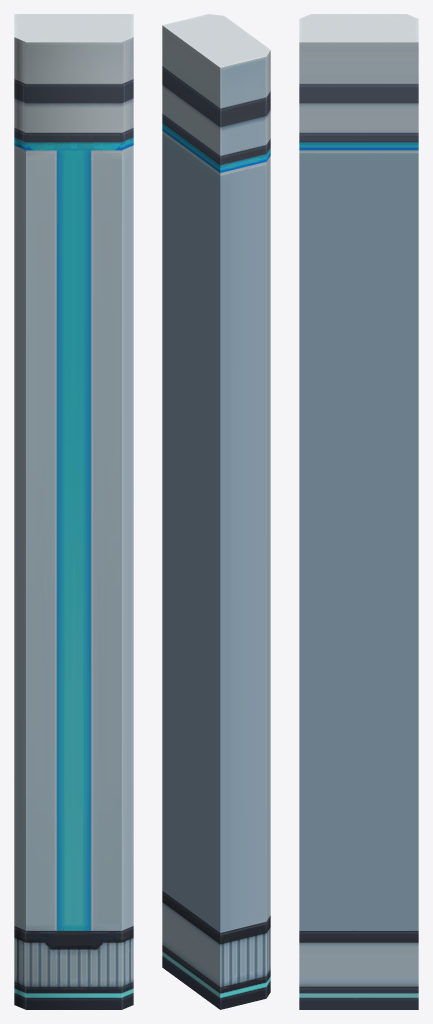
File: my_millenniumlounge_01_wallacc_03.glb
The picture shows the model from 3 angles, left to right: view 1: azimuth 90°, elevation 25°; view 2: azimuth 210°, elevation 25°; view 3: azimuth 270°, elevation 25°; orthographic projection. The views are drawn at different scales.
Visible parts, largest first — view 1: my_millenniumlounge_01_wallacc_03; view 2: my_millenniumlounge_01_wallacc_03; view 3: my_millenniumlounge_01_wallacc_03.
Boxes of the visible parts, <box> form: my_millenniumlounge_01_wallacc_03: <box>14,14,133,1009</box>; my_millenniumlounge_01_wallacc_03: <box>162,14,270,1009</box>; my_millenniumlounge_01_wallacc_03: <box>299,14,418,1009</box>.
Bounding box in the file's own units: 0.00282 × 0.0451 × 0.00504.
2 materials, 2 textured.
